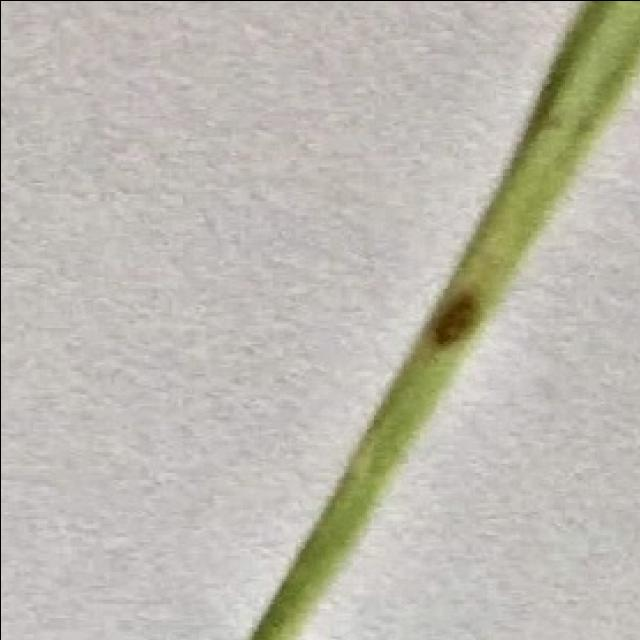Leaf_Blast: (416, 288, 488, 362)
